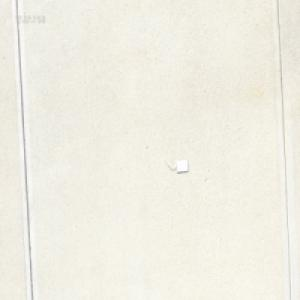LuggageTag: (163, 156, 188, 172)
